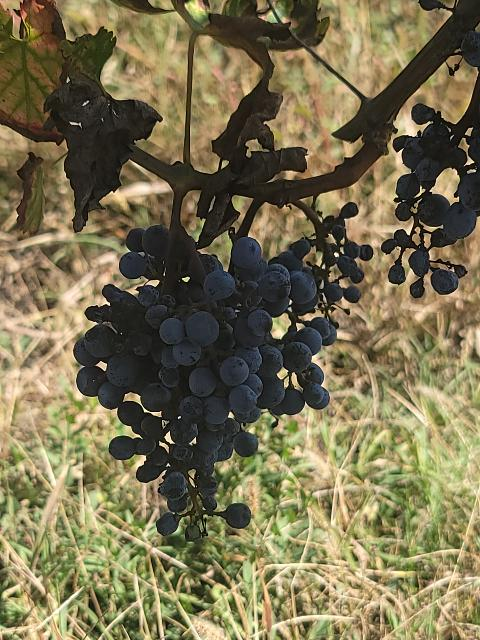grapes: (74, 225, 262, 540), (381, 104, 480, 298), (231, 238, 335, 414), (322, 202, 374, 305), (290, 239, 311, 259)
